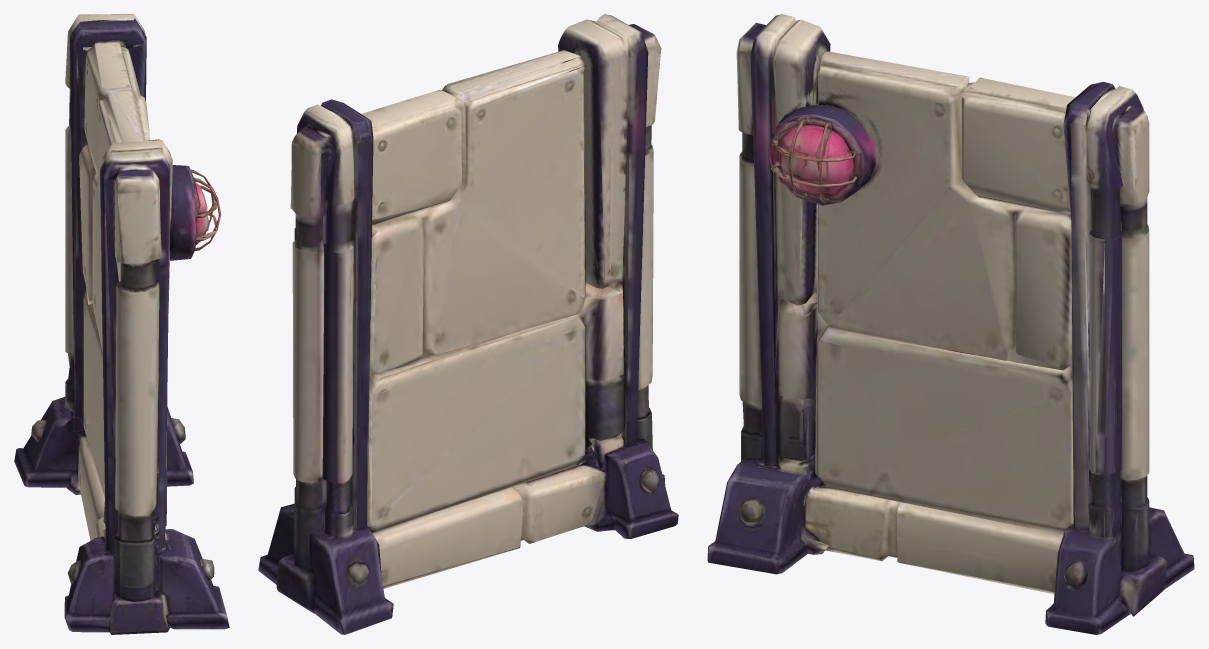
Rendered from prop_lab_wall.glb.
3 views of the same model, side by side, from view 1: azimuth 30°, elevation 25°; view 2: azimuth 150°, elevation 25°; view 3: azimuth 270°, elevation 25° (orthographic). The views are drawn at different scales.
Size of the model in its own units: 0.2212 by 0.374 by 0.3267.
Materials: 1 (1 with a texture image).
